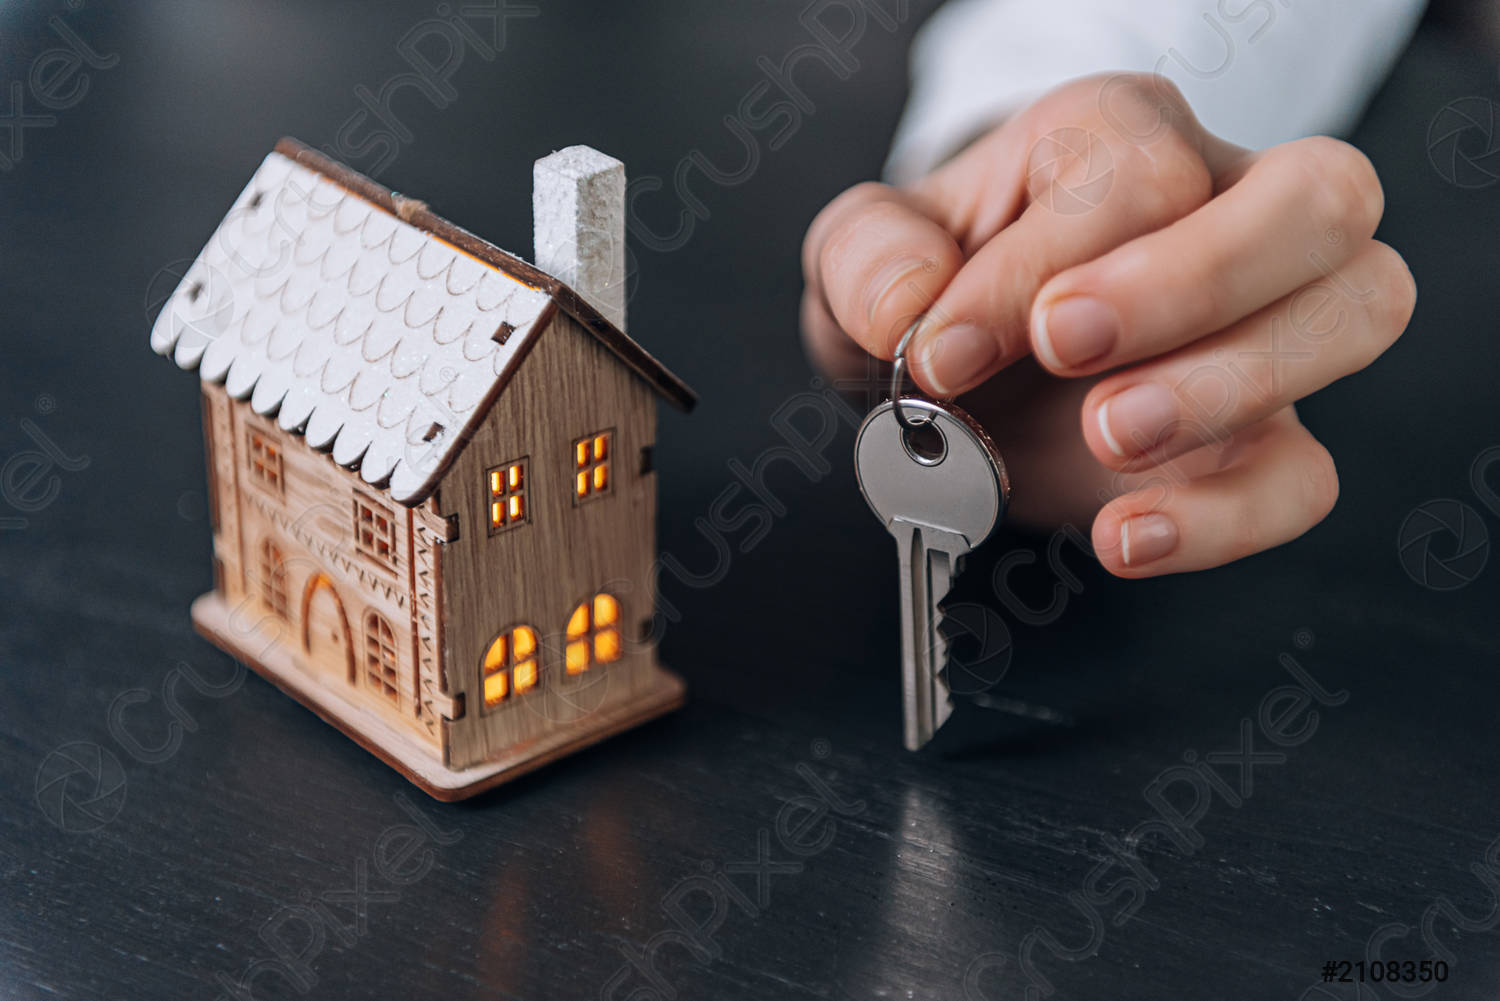key: (849, 400, 1011, 754)
